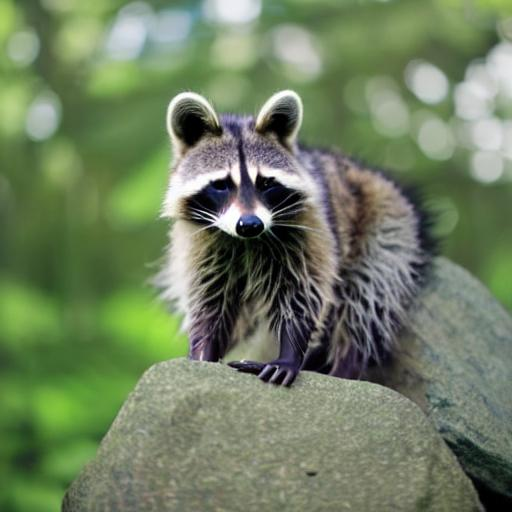raccoon: (149, 87, 455, 361)
